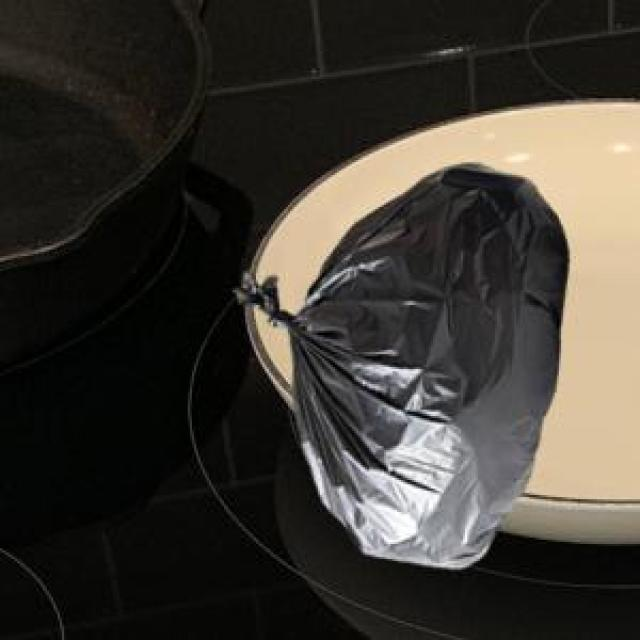waste: (270, 165, 568, 568)
